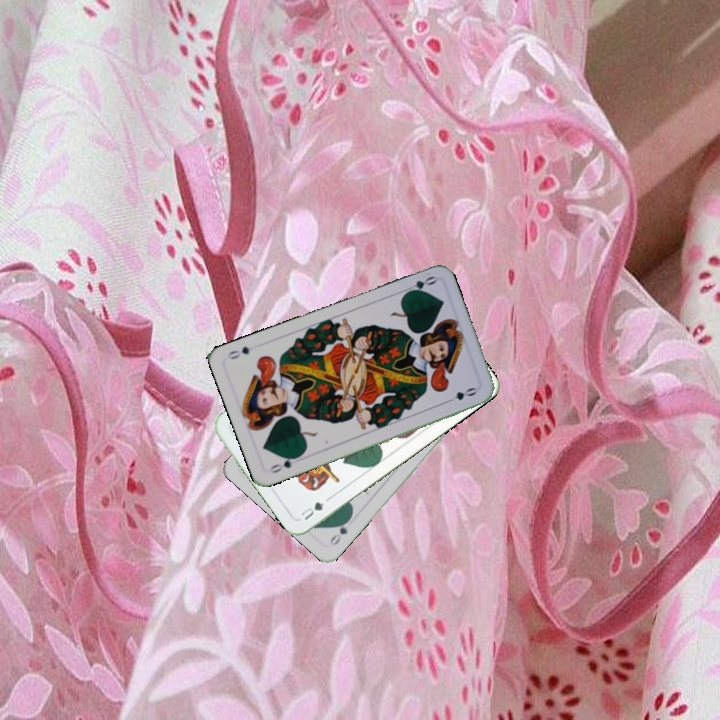GO: (399, 272, 439, 298), (326, 513, 354, 548), (265, 451, 303, 476)
GU: (297, 498, 327, 523)
